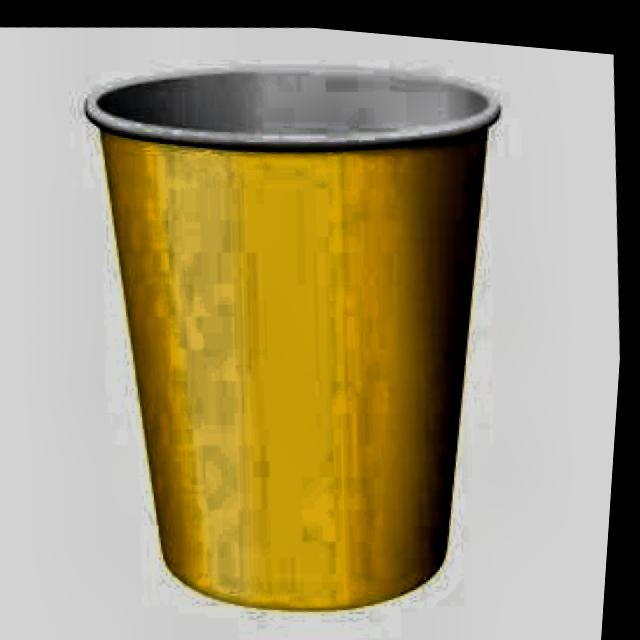Cup: (39, 13, 560, 640)
